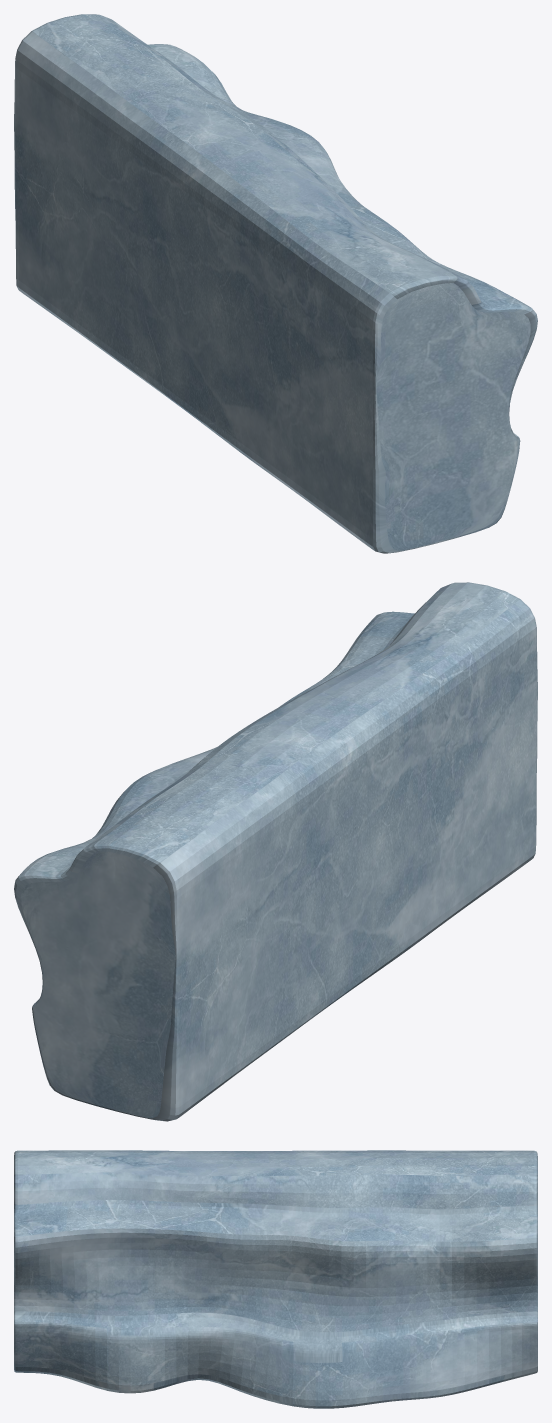
The model's file is Ice Wall.fbx.
3 views of the same model, one above another, from view 1: azimuth 30°, elevation 25°; view 2: azimuth 150°, elevation 25°; view 3: azimuth 270°, elevation 25° (orthographic). The views are drawn at different scales.
Parts seen in each view (by area): view 1: Ice Wall; view 2: Ice Wall; view 3: Ice Wall.
Boxes of the visible parts, x1,y1,x2,y2 form: Ice Wall: (14, 14, 537, 553); Ice Wall: (14, 582, 537, 1121); Ice Wall: (14, 1150, 537, 1408).
Size of the model in its own units: 432 by 498 by 1204.
Materials: 1 (1 with a texture image).
